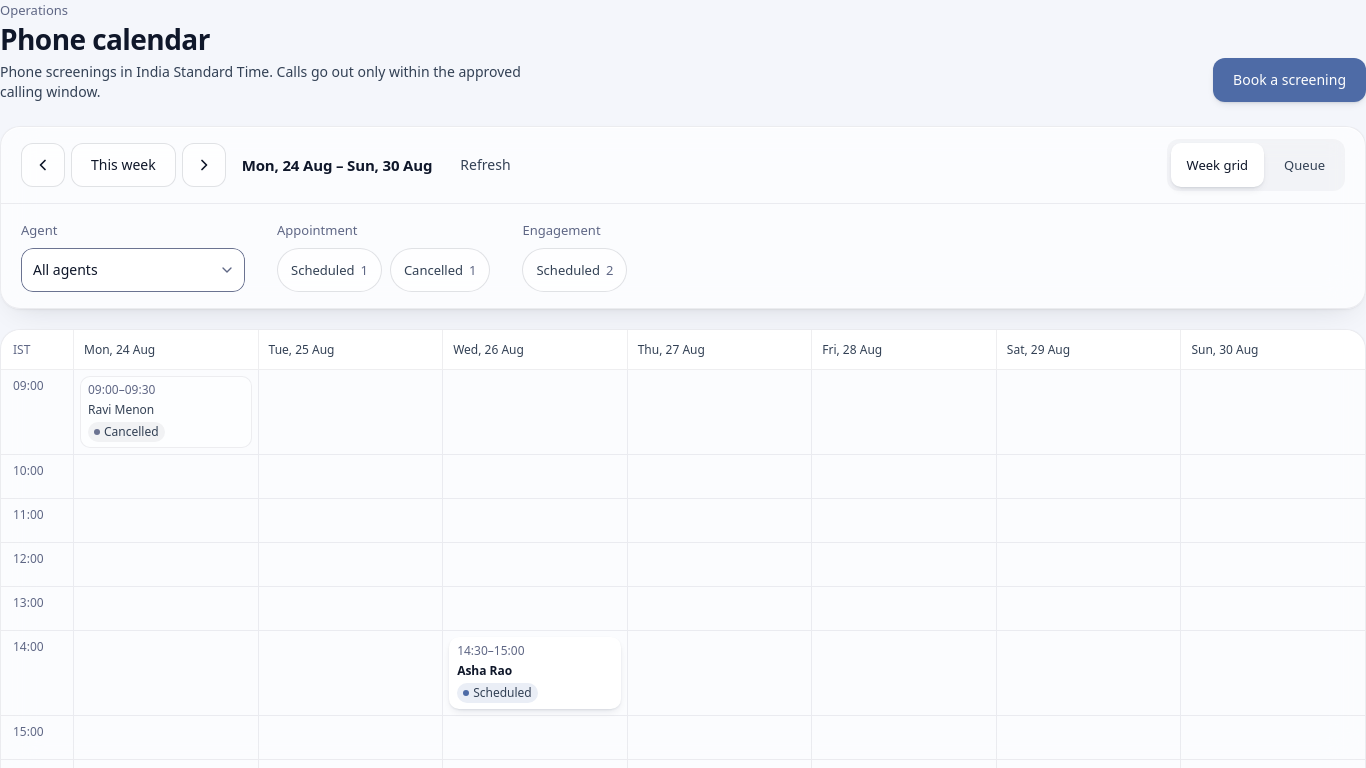
Test case: booking opens from the page header, above the grid › discloses the form below the header and returns focus on close
This screenshot has width=1366, height=768.
Expected: the element "Book a phone screening" is not shown
Click the button "Book a screening". click: (1290, 80)
box: [1213,58,1365,102]
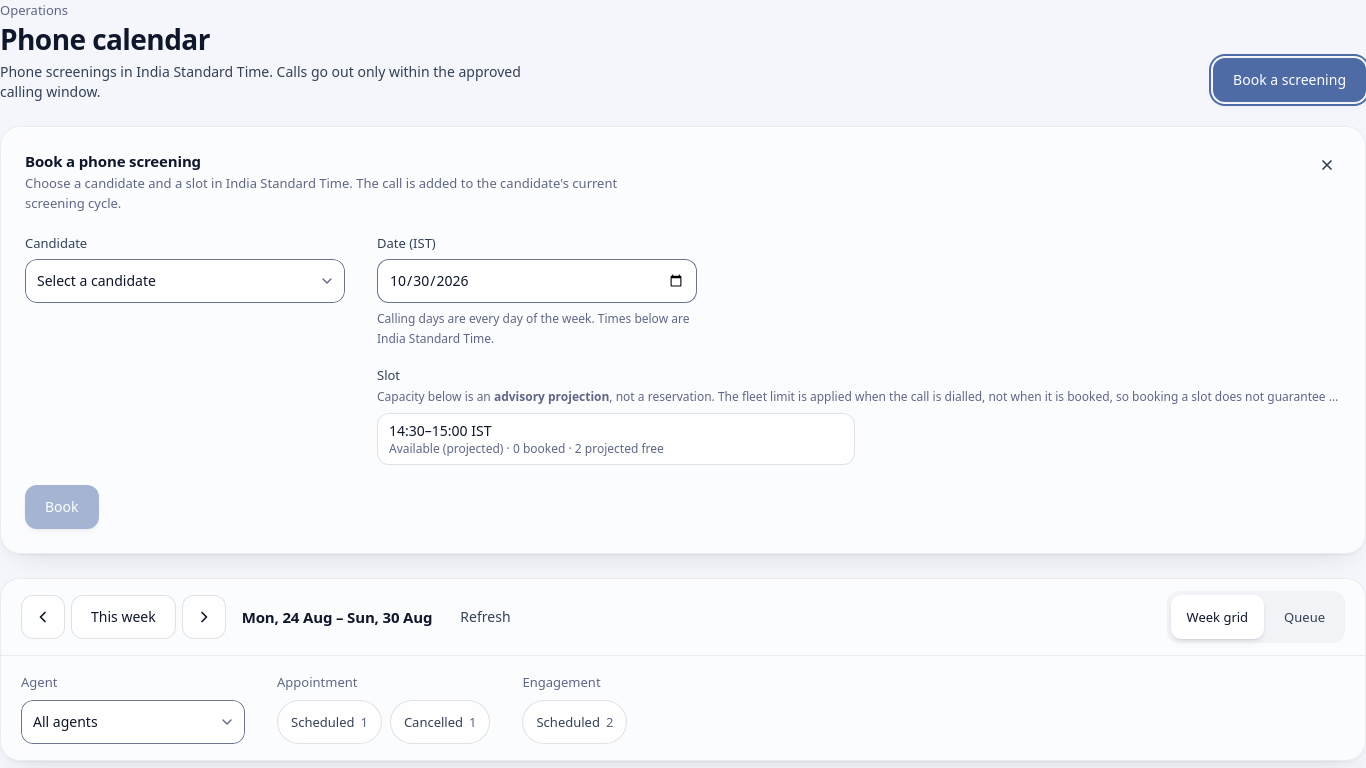
Click the button named "Close booking form". click: (1327, 165)
box: [1305,143,1349,187]
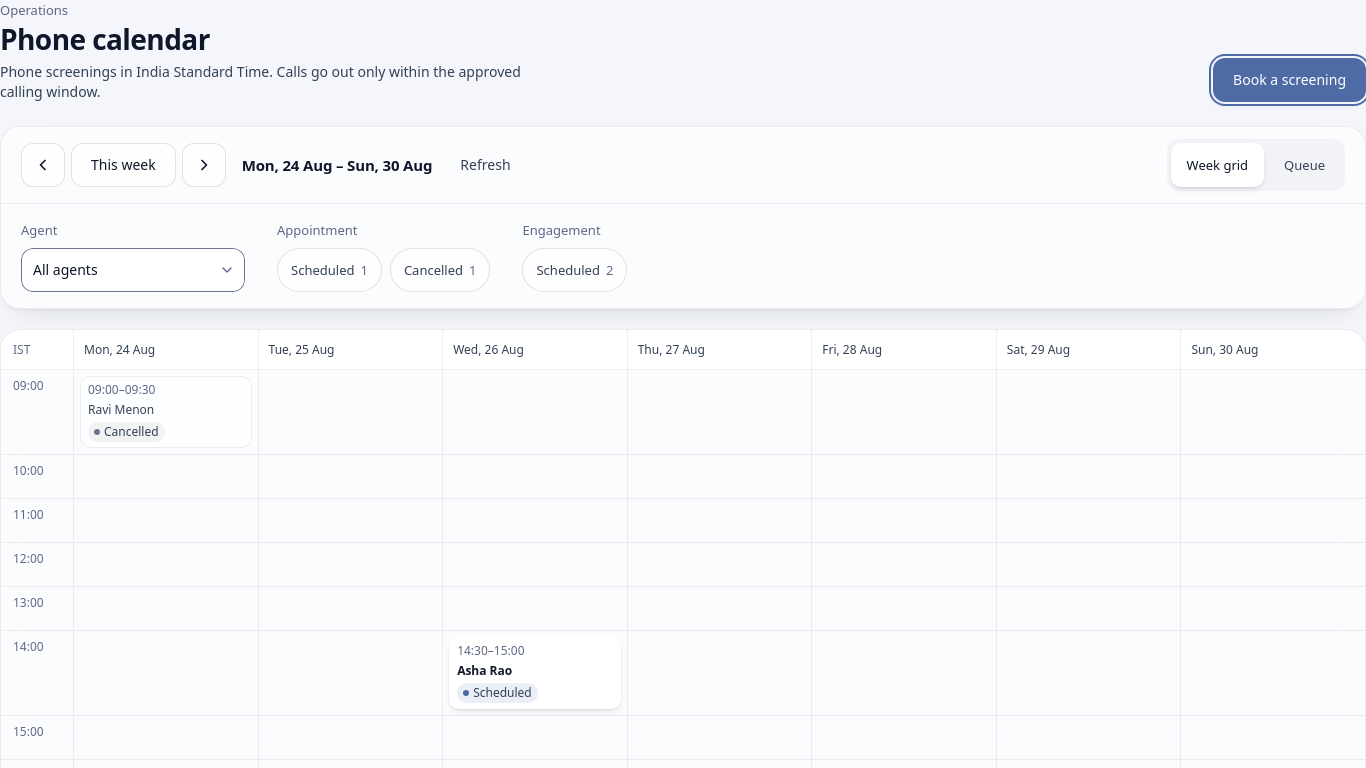
Now the heading "Book a phone screening" is gone
